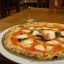pizza: (4, 22, 64, 60)
